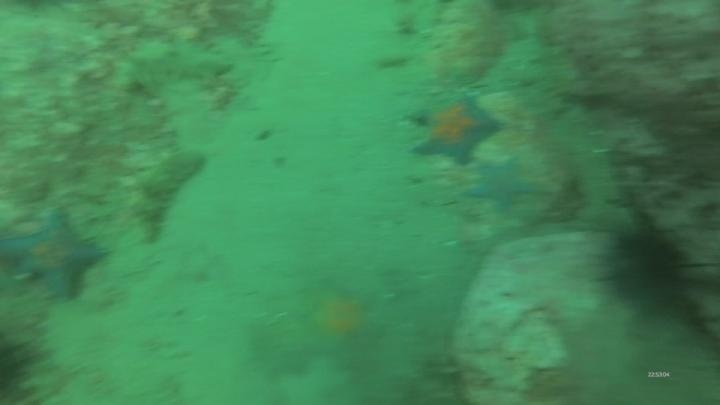echinus: (599, 222, 694, 311)
holothurian: (126, 147, 207, 247), (111, 37, 236, 98)
starfish: (1, 206, 110, 303), (296, 276, 388, 360), (405, 91, 504, 168), (463, 154, 546, 216)
